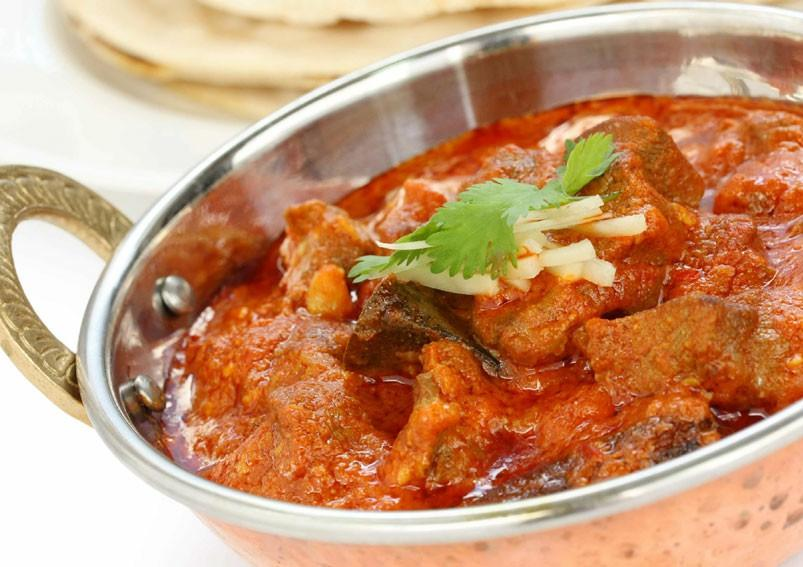MuttonCurry: (156, 92, 803, 523)
